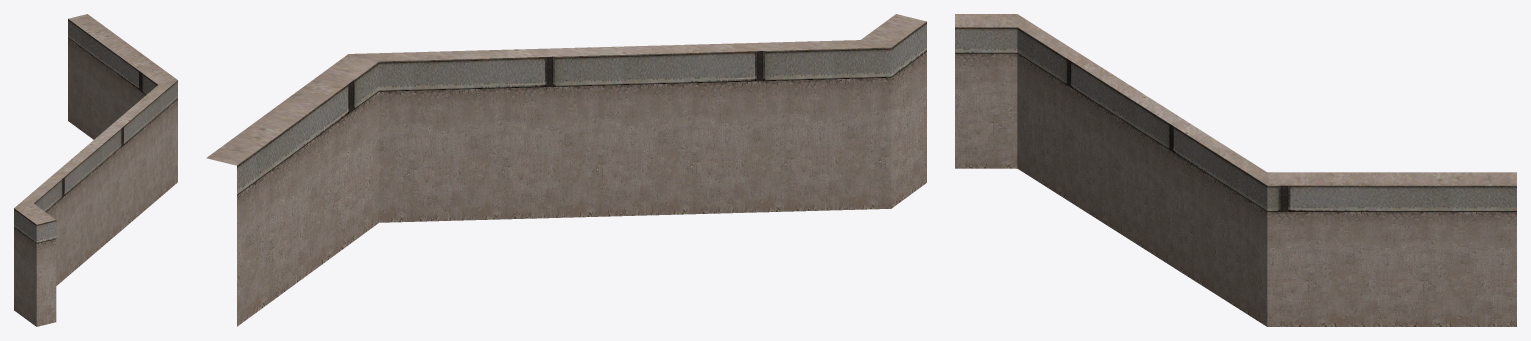
The model's file is M2Z4_BlockingWalL4.glb.
3 views of the same model, side by side, from view 1: azimuth 30°, elevation 25°; view 2: azimuth 150°, elevation 25°; view 3: azimuth 270°, elevation 25° (orthographic). The views are drawn at different scales.
Parts seen in each view (by area): view 1: M2Z4_BLOCKINGWALL4; view 2: M2Z4_BLOCKINGWALL4; view 3: M2Z4_BLOCKINGWALL4.
Part boxes in pixels (left/top/right/bottom): M2Z4_BLOCKINGWALL4: left=14, top=14, right=177, bottom=326; M2Z4_BLOCKINGWALL4: left=206, top=14, right=926, bottom=326; M2Z4_BLOCKINGWALL4: left=955, top=14, right=1516, bottom=326.
Bounding box in the file's own units: 6.5 × 2.5 × 9.
Materials: 2 (2 with a texture image).
